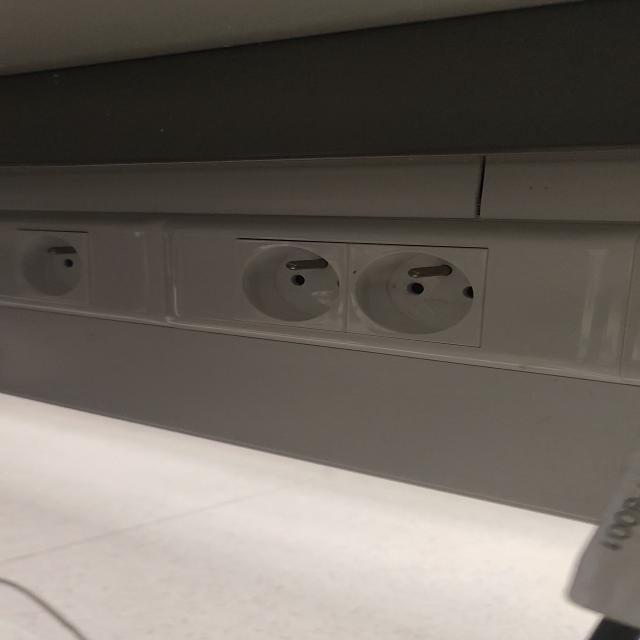house plug: (339, 242, 490, 348), (230, 239, 350, 331), (13, 226, 98, 302)
